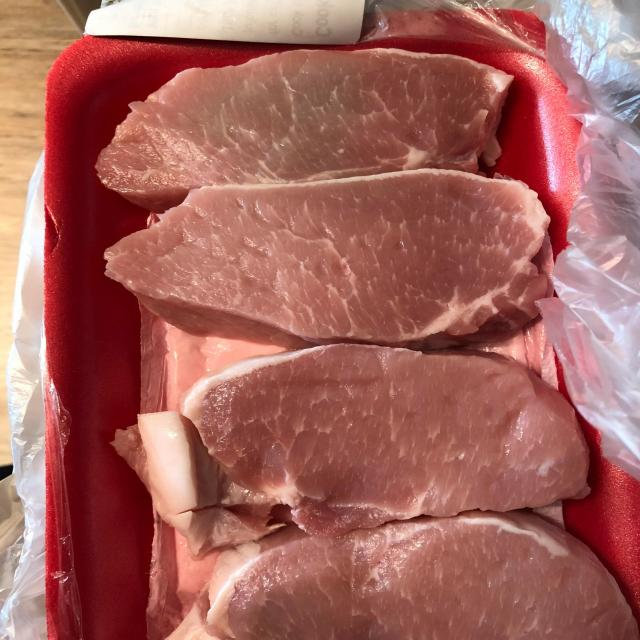pork: (110, 333, 600, 519), (98, 167, 577, 343), (96, 41, 516, 202)
